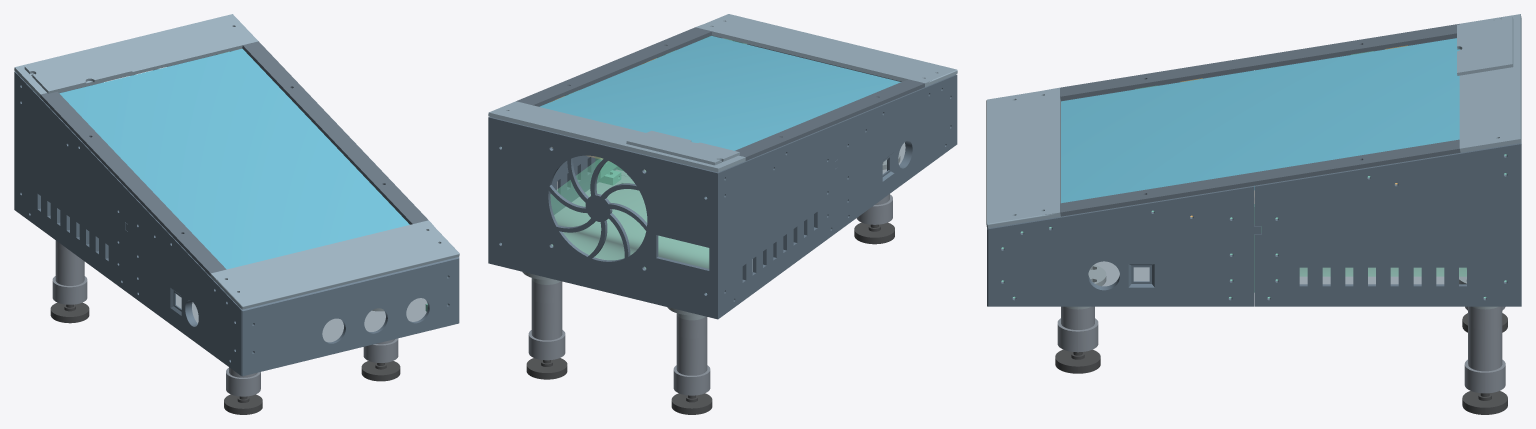
The model's file is cabinet-v1_14.glb.
3 views of the same model, side by side, from view 1: azimuth 30°, elevation 25°; view 2: azimuth 150°, elevation 25°; view 3: azimuth 270°, elevation 25° (orthographic). The views are drawn at different scales.
Parts seen in each view (by area): view 1: REFERENCE_Monitor, left_rear_wall, front_button_panel, left_front_wall, front_cable_lid, rear_control_deck, bezel_right_a1_a2, bezel_left_one_piece, control_hatch, bottom_front, foot_extension_left_rear_2_40mm, foot_terminal_left_rear (+5 smaller); view 2: rear_vent_panel, REFERENCE_Monitor, left_rear_wall, left_front_wall, front_cable_lid, REFERENCE_Dell_3050, bottom_rear, rear_control_deck, bezel_right_a1_a2, bezel_left_one_piece, right_rear_wall, control_hatch (+10 smaller); view 3: REFERENCE_Monitor, right_rear_wall, right_front_wall, front_cable_lid, bezel_right_a1_a2, bezel_left_one_piece, rear_control_deck, control_hatch, foot_extension_right_rear_2_40mm, bottom_rear, foot_terminal_right_rear, foot_terminal_right_front (+6 smaller).
Boxes of the visible parts, bbox=[...] form: REFERENCE_Monitor: bbox=[59, 48, 409, 269]; left_rear_wall: bbox=[14, 71, 128, 292]; front_button_panel: bbox=[244, 257, 456, 375]; left_front_wall: bbox=[125, 191, 245, 376]; front_cable_lid: bbox=[210, 220, 459, 309]; rear_control_deck: bbox=[14, 14, 258, 97]; bezel_right_a1_a2: bbox=[242, 41, 428, 224]; bezel_left_one_piece: bbox=[40, 91, 226, 275]; control_hatch: bbox=[24, 46, 132, 93]; bottom_front: bbox=[176, 294, 427, 342]; foot_extension_left_rear_2_40mm: bbox=[55, 246, 84, 285]; foot_terminal_left_rear: bbox=[52, 276, 87, 304]; rear_vent_panel: bbox=[491, 117, 715, 318]; REFERENCE_Monitor: bbox=[539, 36, 900, 150]; left_rear_wall: bbox=[714, 123, 837, 319]; left_front_wall: bbox=[835, 74, 957, 231]; front_cable_lid: bbox=[696, 14, 957, 86]; REFERENCE_Dell_3050: bbox=[550, 158, 709, 268]; bottom_rear: bbox=[554, 175, 752, 271]; rear_control_deck: bbox=[488, 101, 745, 172]; bezel_right_a1_a2: bbox=[516, 27, 712, 106]; bezel_left_one_piece: bbox=[735, 79, 924, 160]; right_rear_wall: bbox=[488, 76, 611, 263]; control_hatch: bbox=[626, 130, 739, 165]; REFERENCE_Monitor: bbox=[1061, 38, 1459, 203]; right_rear_wall: bbox=[1254, 143, 1521, 306]; right_front_wall: bbox=[987, 186, 1260, 306]; front_cable_lid: bbox=[986, 87, 1060, 228]; bezel_right_a1_a2: bbox=[1060, 139, 1460, 216]; bezel_left_one_piece: bbox=[1060, 24, 1459, 100]; rear_control_deck: bbox=[1459, 14, 1521, 152]; control_hatch: bbox=[1457, 16, 1513, 75]; foot_extension_right_rear_2_40mm: bbox=[1468, 323, 1502, 371]; bottom_rear: bbox=[1299, 267, 1460, 284]; foot_terminal_right_rear: bbox=[1464, 359, 1505, 393]; foot_terminal_right_front: bbox=[1057, 318, 1098, 352].
Size of the model in its own units: 0.26 by 0.2826 by 0.4705.
